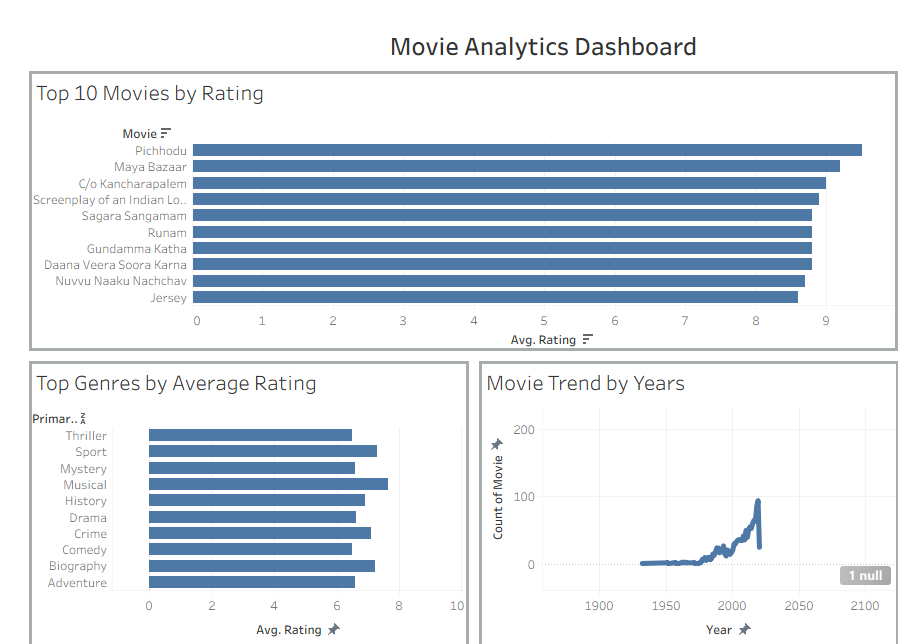

This screenshot's page, from the dashboard's own definition file:
{"tool":"tableau","page":{"name":"Dashboard 1","canvas":[1000,800],"ordinal":0},"visuals":[{"type":"title","box":[8,8,984,41]},{"type":"worksheet","title":"Top 10 Movies by Rating","mark":"Automatic","rows":["Movie"],"cols":["Rating"],"box":[8,49,824,281]},{"type":"filter","title":"Top 10 Movies by Rating","param":"[federated.14mtb4m08djlq11ei2hir17tdag7].[avg:Rating:qk]","box":[832,49,160,69]},{"type":"filter","title":"Top 10 Movies by Rating","param":"[federated.14mtb4m08djlq11ei2hir17tdag7].[none:Movie:nk]","box":[832,118,160,91]},{"type":"filter","title":"Top Genres by Average Rating","param":"[federated.14mtb4m08djlq11ei2hir17tdag7].[none:Calculation_0420889484058624:nk]","box":[832,209,160,416]},{"type":"worksheet","title":"Top Genres by Average Rating","mark":"Automatic","rows":["Calculation_0420889484058624"],"cols":["Rating"],"box":[8,330,422,462]},{"type":"worksheet","title":"Movie Trend by Years","mark":"Line","rows":["Movie"],"cols":["Year"],"box":[430,330,402,462]}]}

Visuals, with their boxes on the page's 1000x800 design canvas (x1, y1, x2, y2). These are canvas units, not pixel positions in the 904x644 screenshot, which may show the page scaled, cropped or inside an application window:
title: pyautogui.locateOnScreen(8, 8, 992, 49)
"Top 10 Movies by Rating" worksheet: pyautogui.locateOnScreen(8, 49, 832, 330)
"Top 10 Movies by Rating" filter: pyautogui.locateOnScreen(832, 49, 992, 118)
"Top 10 Movies by Rating" filter: pyautogui.locateOnScreen(832, 118, 992, 209)
"Top Genres by Average Rating" filter: pyautogui.locateOnScreen(832, 209, 992, 625)
"Top Genres by Average Rating" worksheet: pyautogui.locateOnScreen(8, 330, 430, 792)
"Movie Trend by Years" worksheet (Line marks): pyautogui.locateOnScreen(430, 330, 832, 792)
